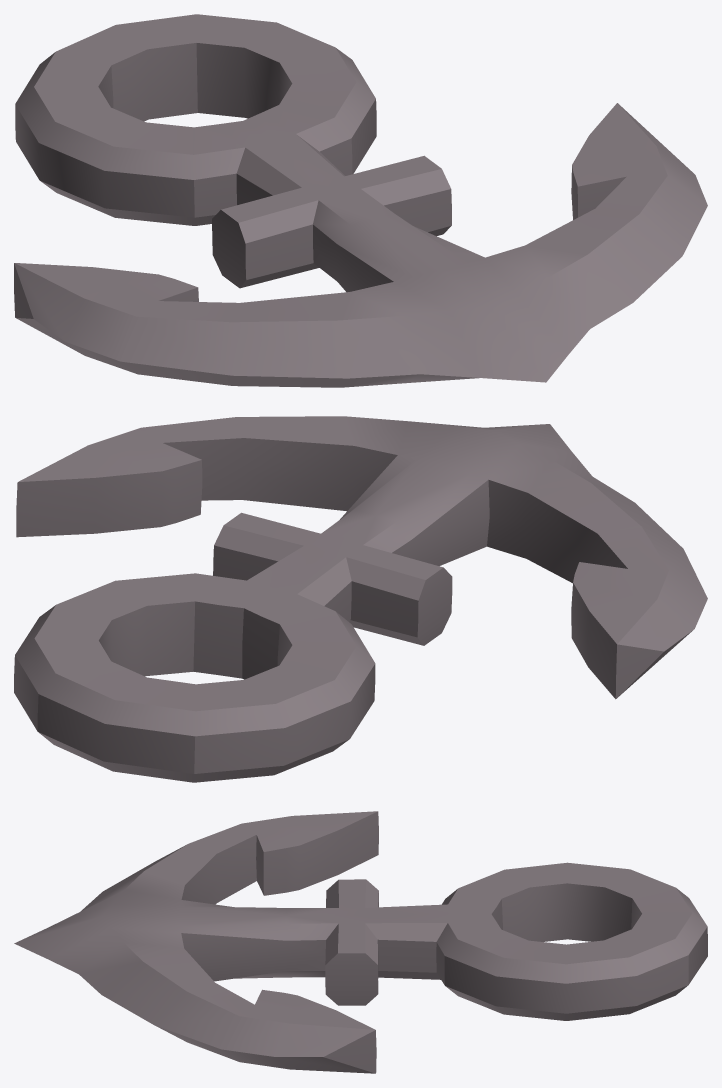
File: quaternius-pirate-anchor.glb
3 renders of one model, top to bottom at view 1: azimuth 30°, elevation 25°; view 2: azimuth 150°, elevation 25°; view 3: azimuth 270°, elevation 25°, orthographic. The views are drawn at different scales.
Parts seen in each view (by area): view 1: Prop_Anchor; view 2: Prop_Anchor; view 3: Prop_Anchor.
Boxes of the visible parts, left/top/right/bottom form: Prop_Anchor: left=14, top=14, right=707, bottom=387; Prop_Anchor: left=14, top=416, right=707, bottom=782; Prop_Anchor: left=14, top=811, right=707, bottom=1073.
Size of the model in its own units: 0.7807 by 0.0932 by 0.9507.
Materials: 1 (1 with a texture image).
